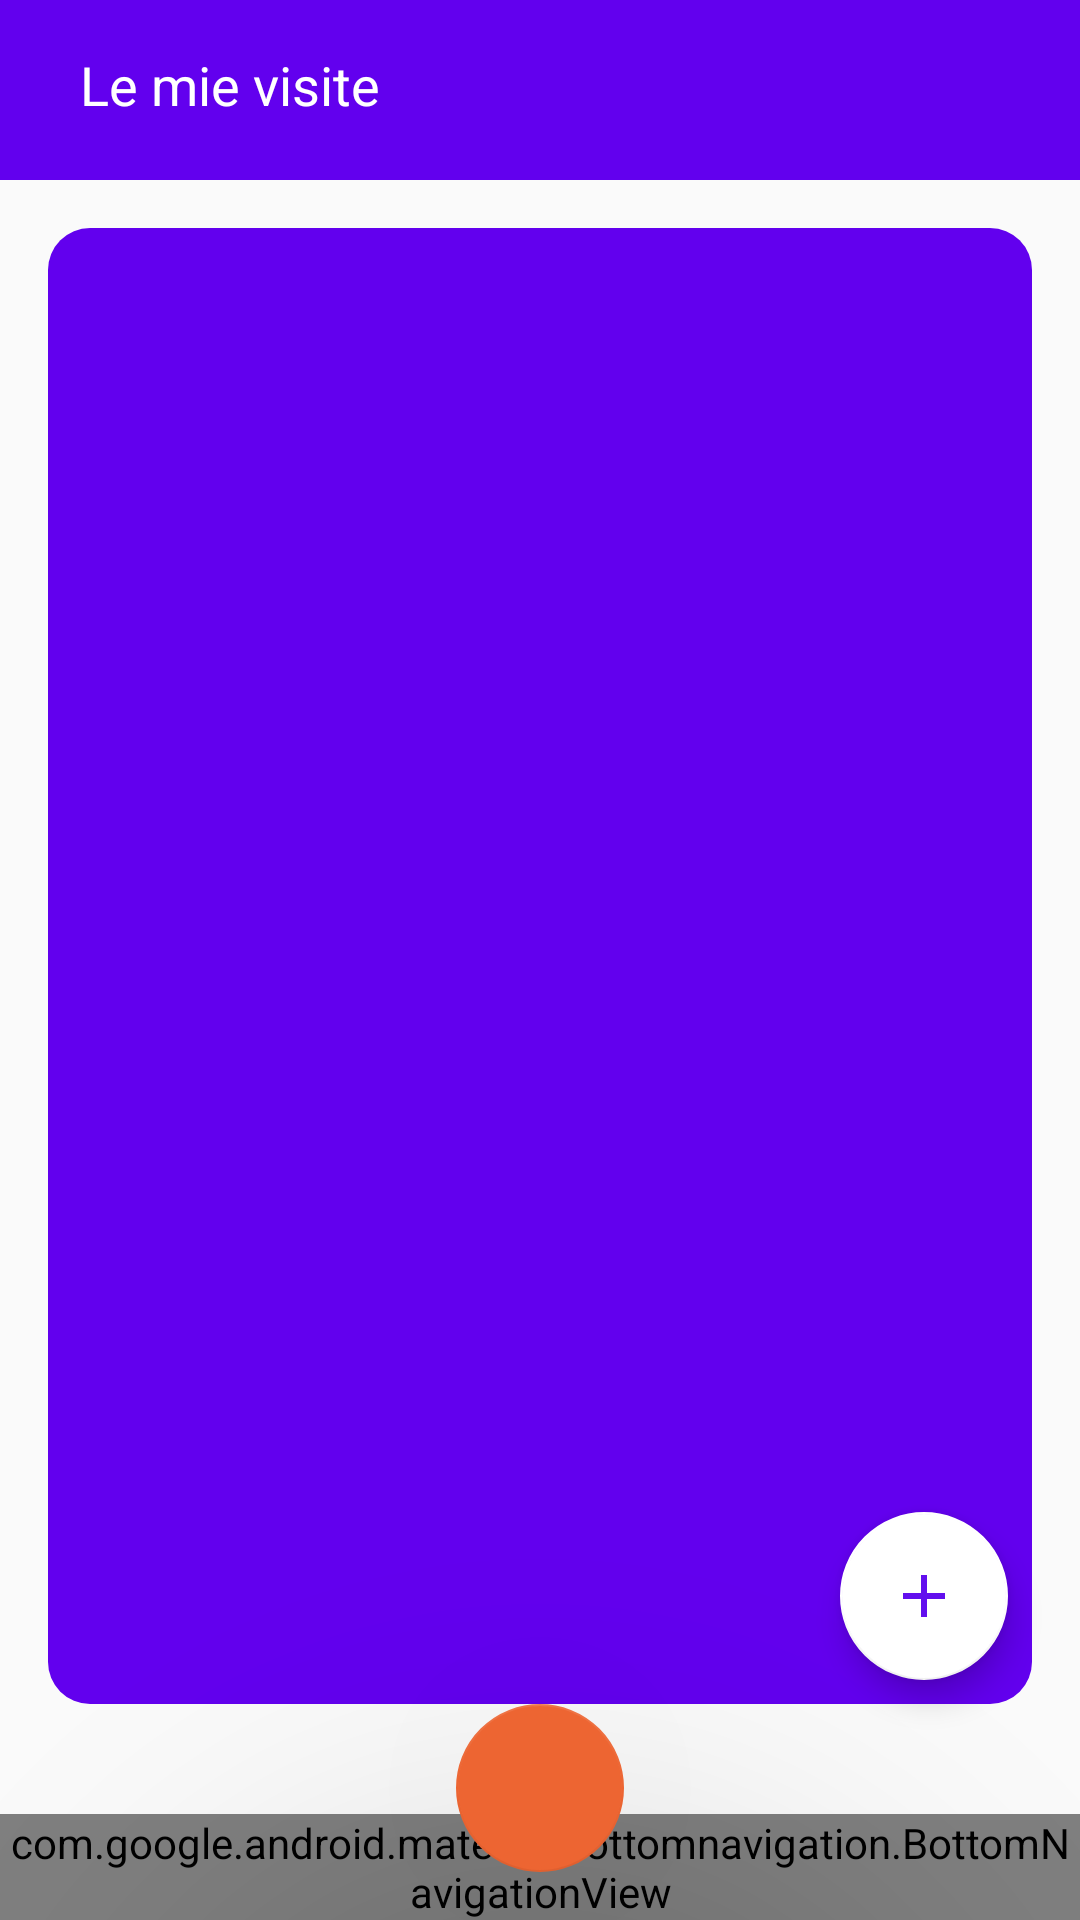

Screen size 1080×1920. Icon name, then its box in pixels as (x1,y1,x2,y2):
add: (840,1512,1008,1680)
